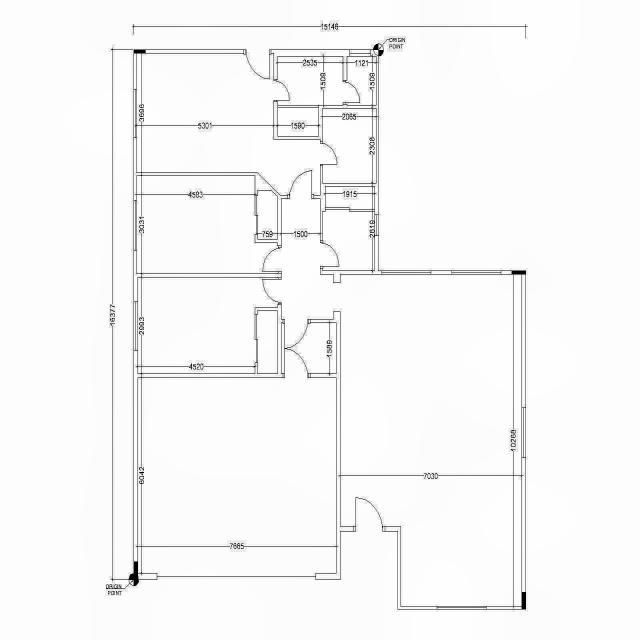Column: (134, 561, 138, 580), (522, 592, 526, 610), (512, 270, 526, 274), (134, 50, 146, 54)
Door: (354, 496, 386, 532), (244, 50, 272, 80), (288, 169, 314, 199), (261, 246, 282, 274), (261, 277, 282, 305), (320, 240, 340, 268), (342, 80, 360, 104), (320, 142, 338, 166), (274, 79, 290, 102)
Double-Door: (282, 319, 310, 378)
Sliding Door: (325, 208, 375, 212), (255, 314, 258, 363), (255, 196, 258, 234)
Window: (436, 606, 486, 610), (522, 408, 526, 458), (452, 270, 502, 274), (382, 270, 432, 274), (134, 302, 138, 351), (350, 50, 370, 56), (374, 214, 379, 237), (134, 200, 136, 250), (134, 89, 136, 138)
